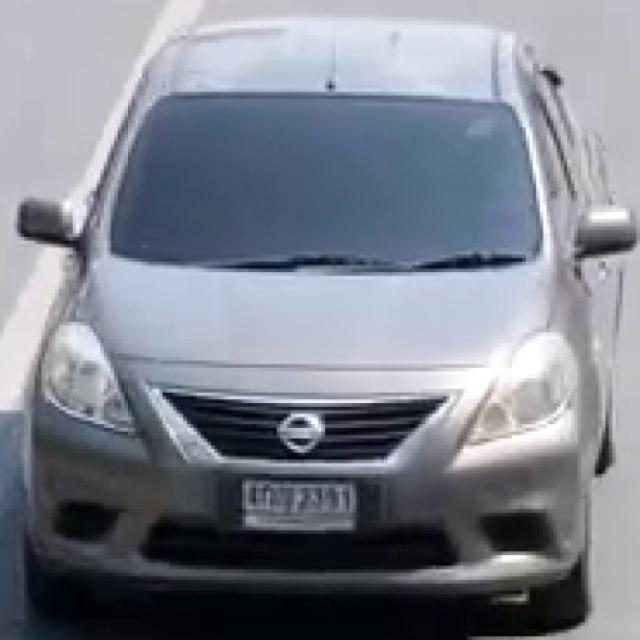plate: (238, 477, 366, 532)
